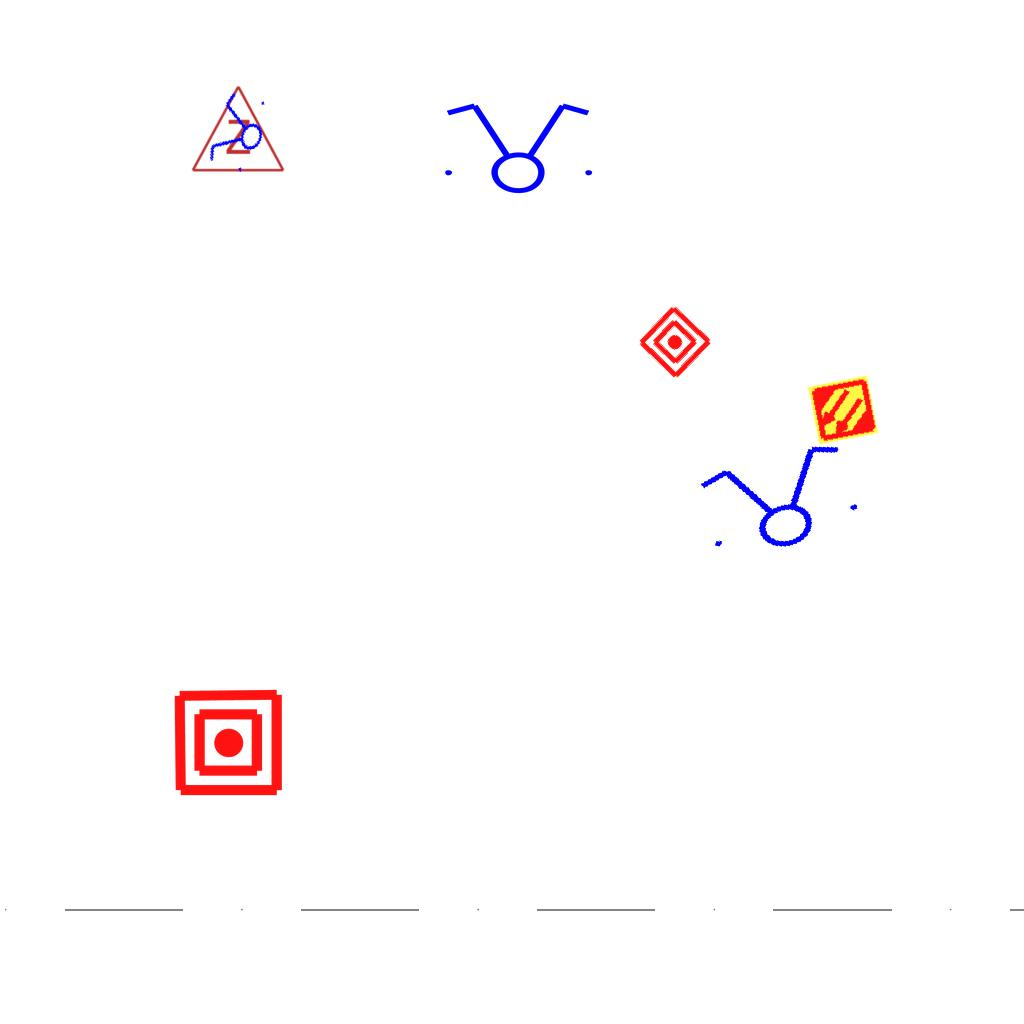ASR_Ansaugrauchmelder: (806, 373, 880, 447)
NAM-Nichtautomatischer_Melder: (172, 686, 285, 799), (635, 302, 715, 382)
Serienschalter: (684, 432, 872, 570), (433, 99, 601, 195), (202, 85, 276, 181)
Zimmersignalleuchte: (188, 79, 286, 179)
